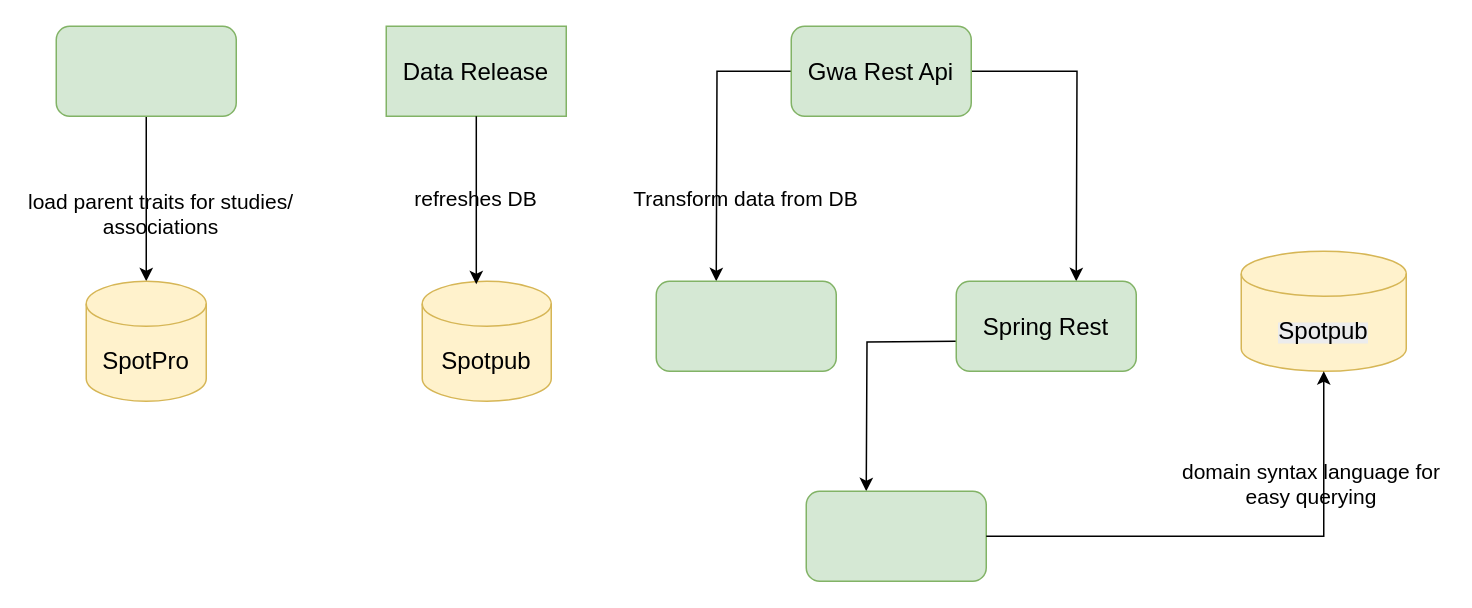
The diagram is 1472 pixels wide and 608 high, and some of its shapes have lost their labels. Each missing label, with the box of its shape:
Data Assembler & transformer: (655, 280, 836, 371)
Parent Trait mapper: (55, 25, 236, 116)
Query DSL+ JPA: (805, 490, 986, 581)
